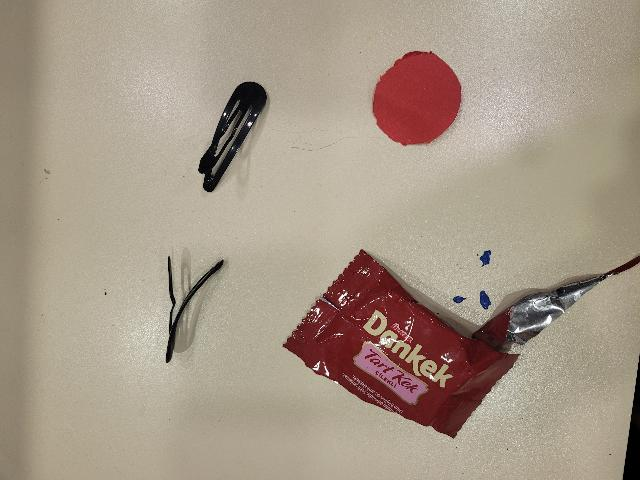Kagit: (372, 49, 467, 153)
Metal: (195, 83, 273, 194), (152, 251, 222, 361)
Plastik: (282, 252, 508, 440)
